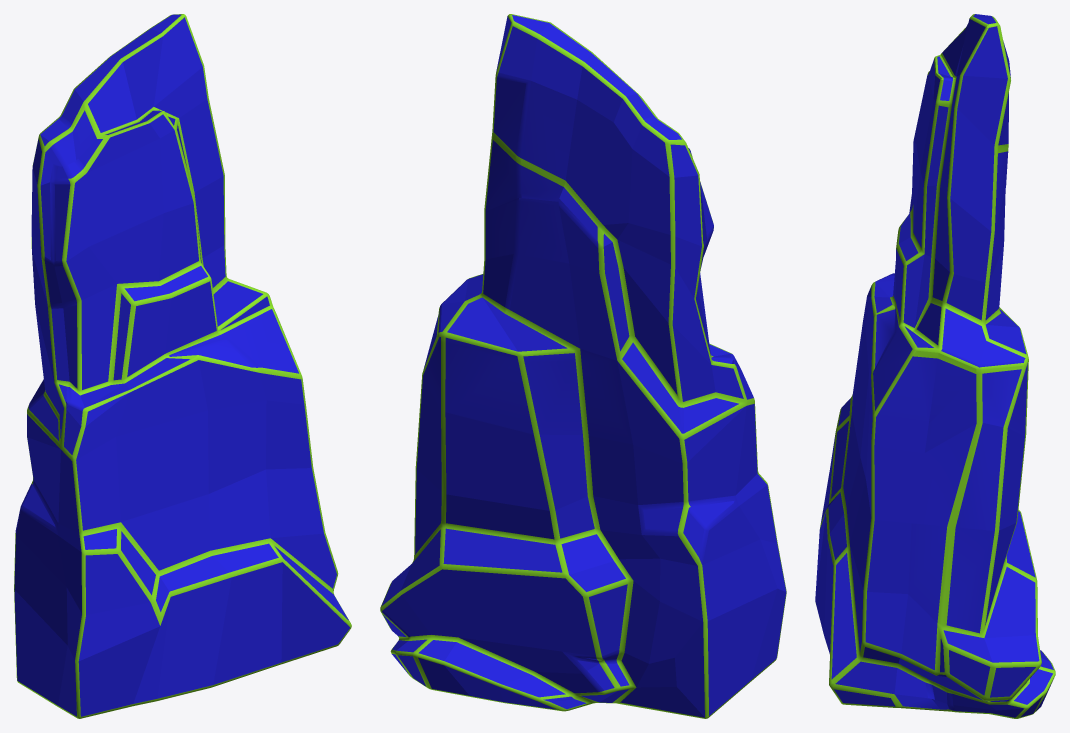
The model's file is rocamejorada3.fbx.
The picture shows the model from 3 angles, left to right: view 1: azimuth 30°, elevation 25°; view 2: azimuth 150°, elevation 25°; view 3: azimuth 270°, elevation 25°; orthographic projection. The views are drawn at different scales.
Parts seen in each view (by area): view 1: Roca3; view 2: Roca3; view 3: Roca3.
Boxes of the visible parts, left/top/right/bottom form: Roca3: left=14, top=14, right=351, bottom=718; Roca3: left=380, top=14, right=786, bottom=718; Roca3: left=815, top=14, right=1055, bottom=718.
Size of the model in its own units: 6.69 by 13.8 by 4.54.
